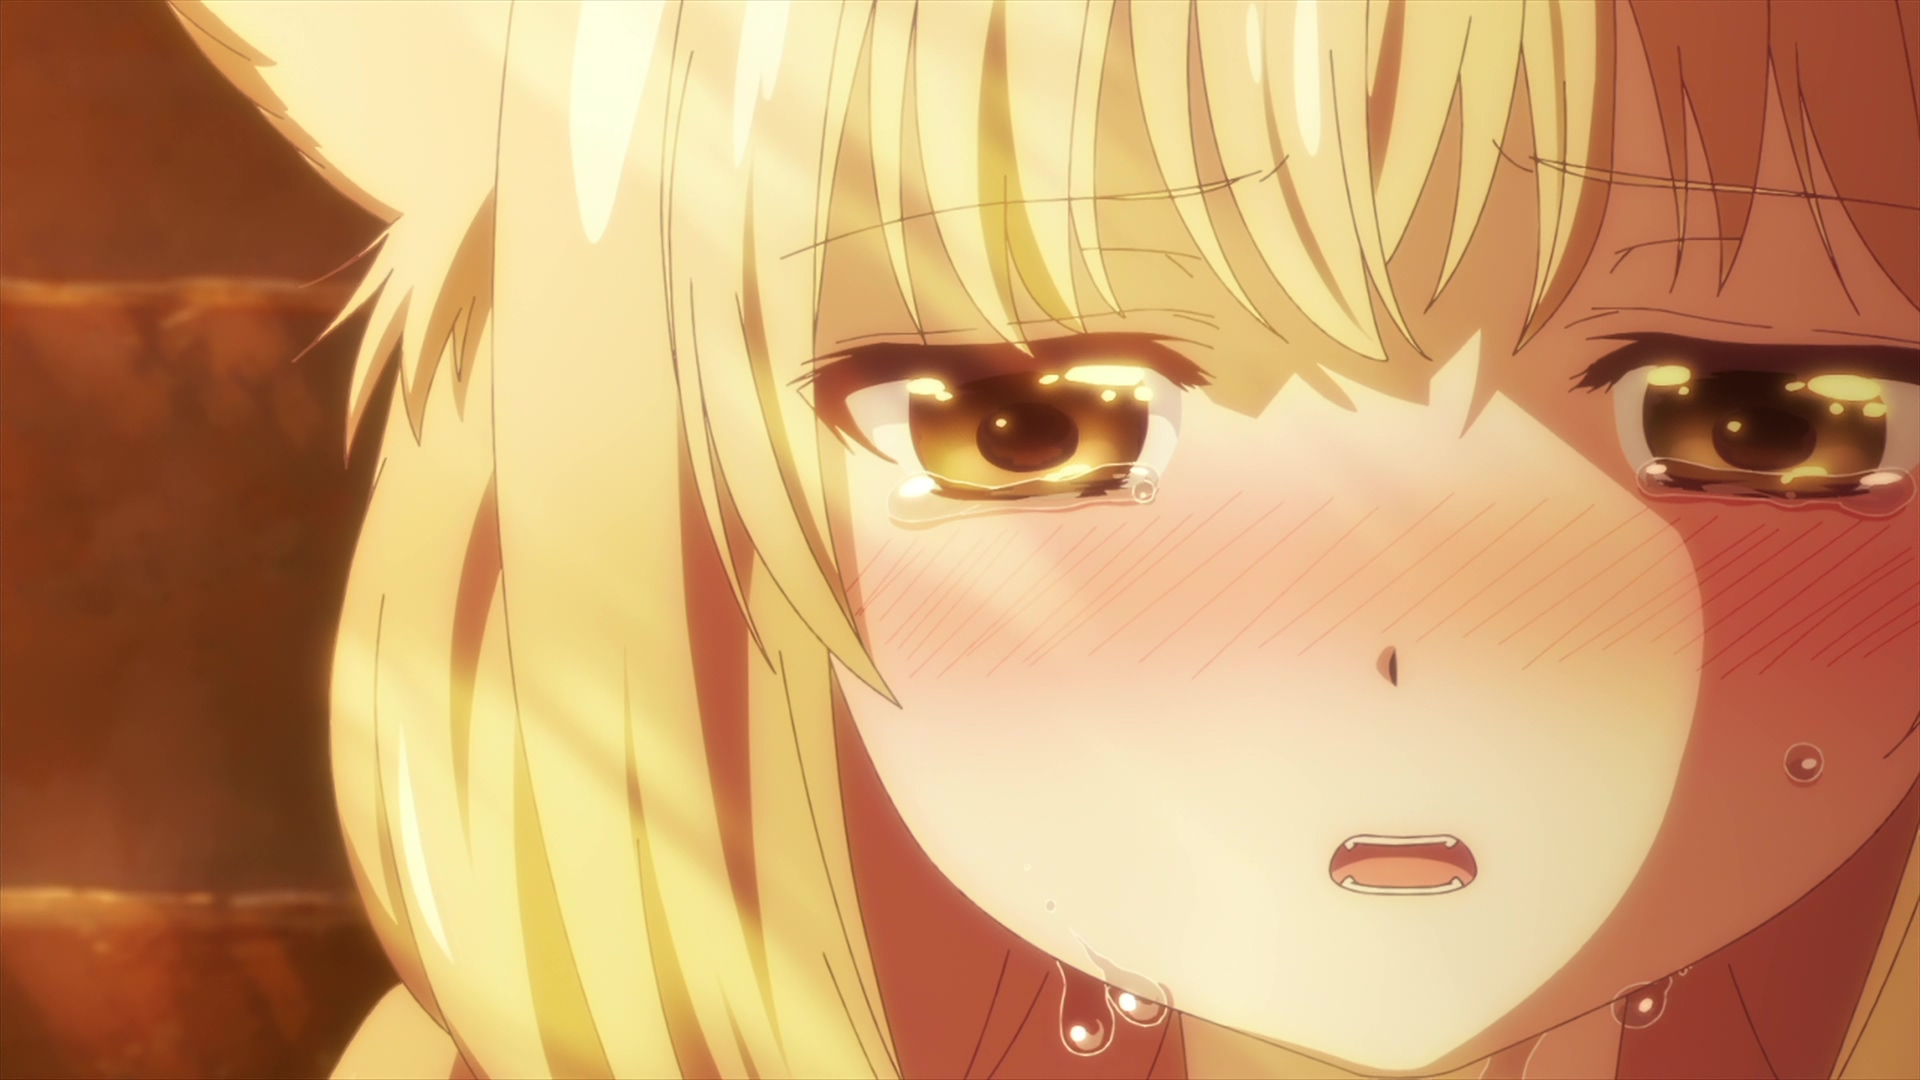柚: (170, 1, 1920, 1080)
